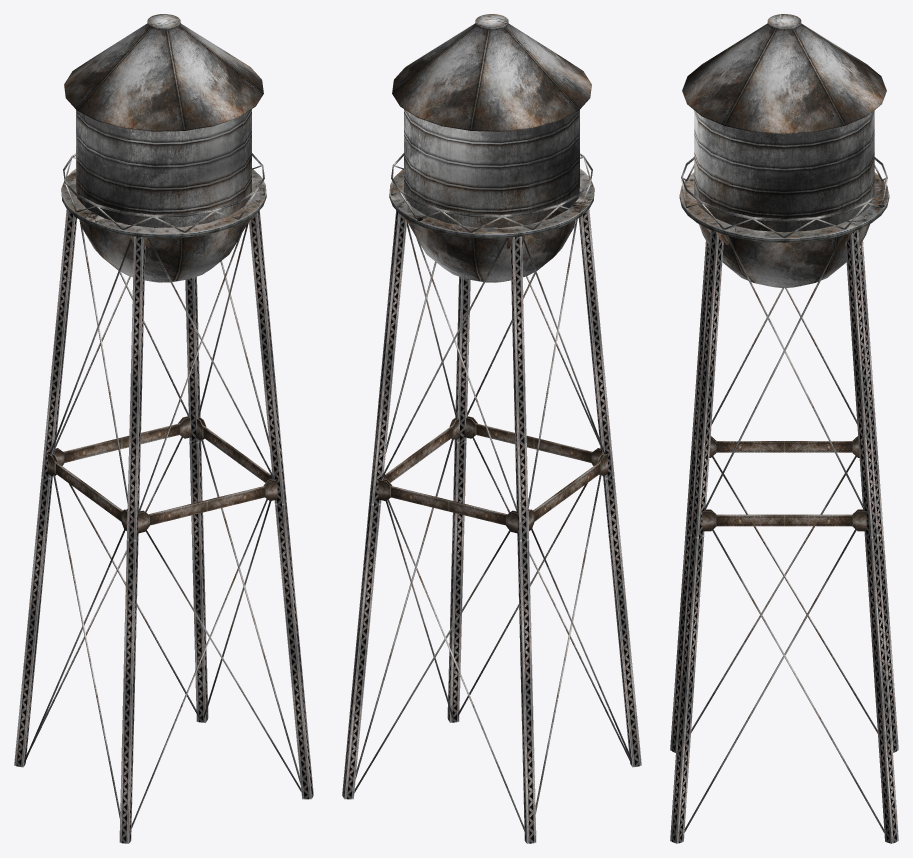
The model's file is water_tower.dae.
3 views of the same model, side by side, from view 1: azimuth 30°, elevation 25°; view 2: azimuth 150°, elevation 25°; view 3: azimuth 270°, elevation 25° (orthographic).
Parts seen in each view (by area): view 1: Object025; view 2: Object025; view 3: Object025.
Boxes of the visible parts, x1,y1,x2,y2 form: Object025: [14, 14, 313, 843]; Object025: [342, 14, 641, 843]; Object025: [670, 14, 898, 843].
Bounding box in the file's own units: 246 × 246 × 919.
1 material, 1 textured.
